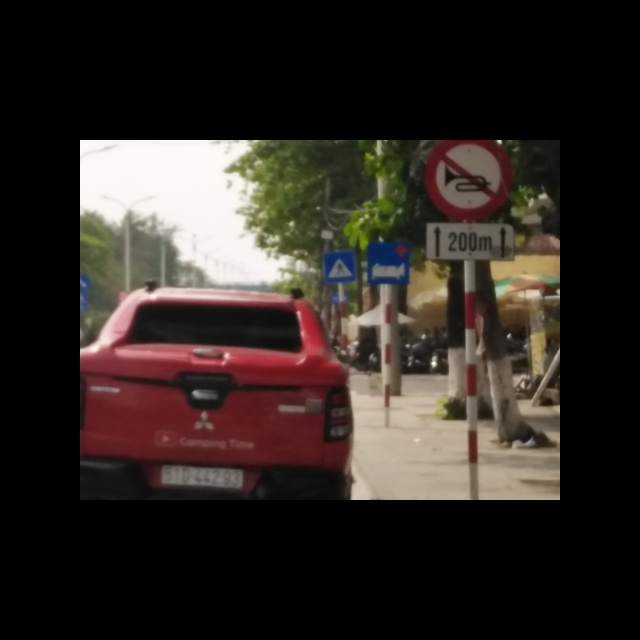Bệnh viện: (368, 241, 410, 284)
Cấm bấm còi: (424, 140, 512, 222)
Đường dành cho người đi bộ: (323, 249, 357, 283)
